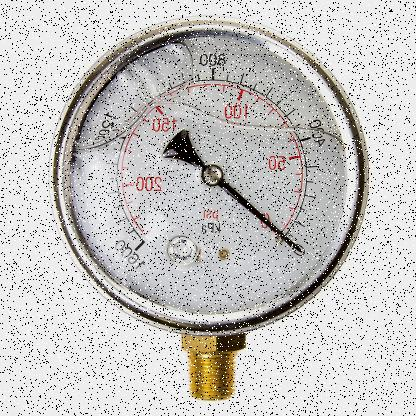needle: (216, 178, 304, 254)
